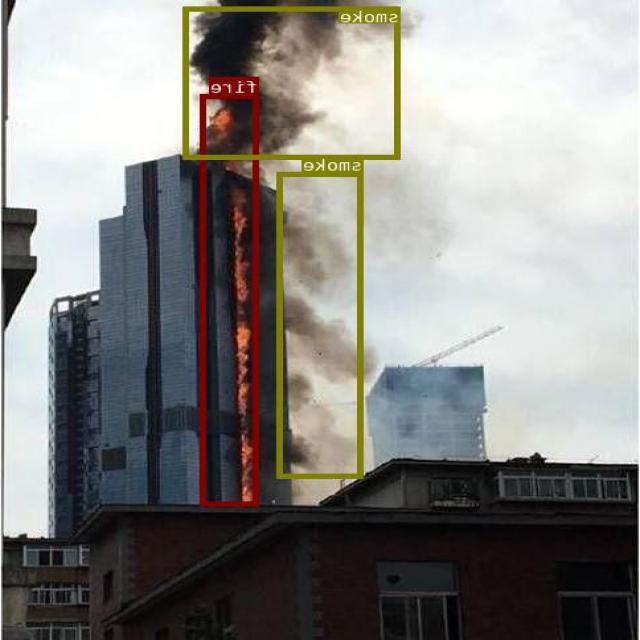fire: (202, 93, 261, 506)
smoke: (184, 6, 402, 159), (278, 171, 364, 477)
